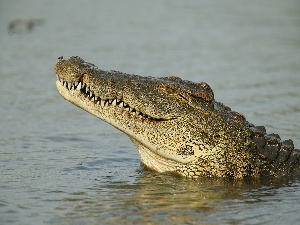crocodile: (52, 54, 300, 184)
